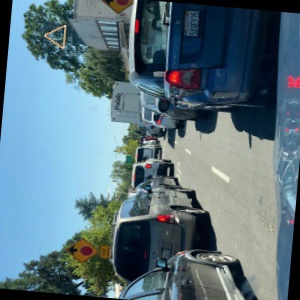triangle: (43, 22, 68, 52)
